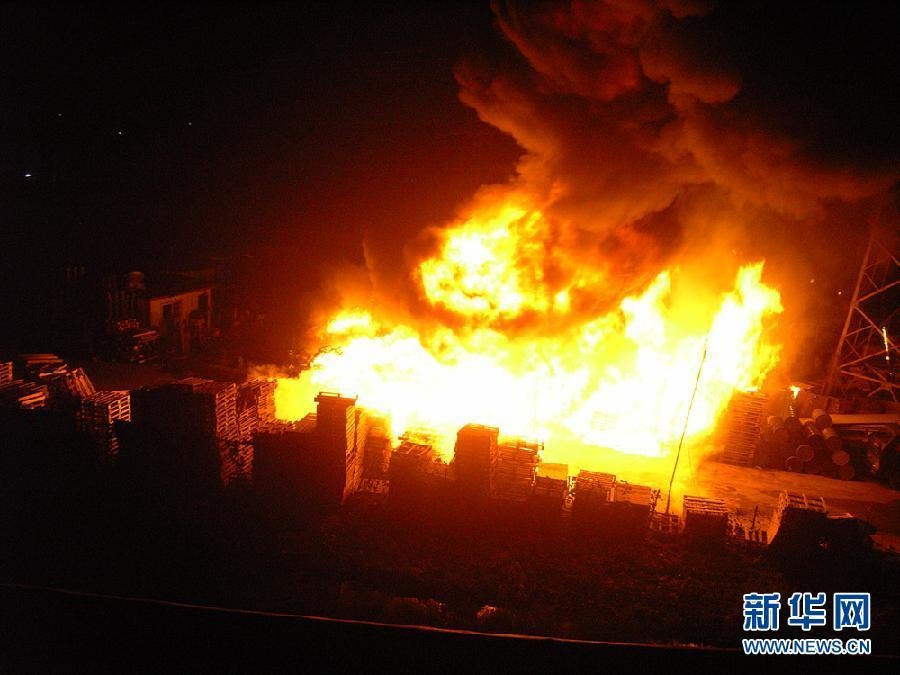fire: (257, 197, 790, 492)
